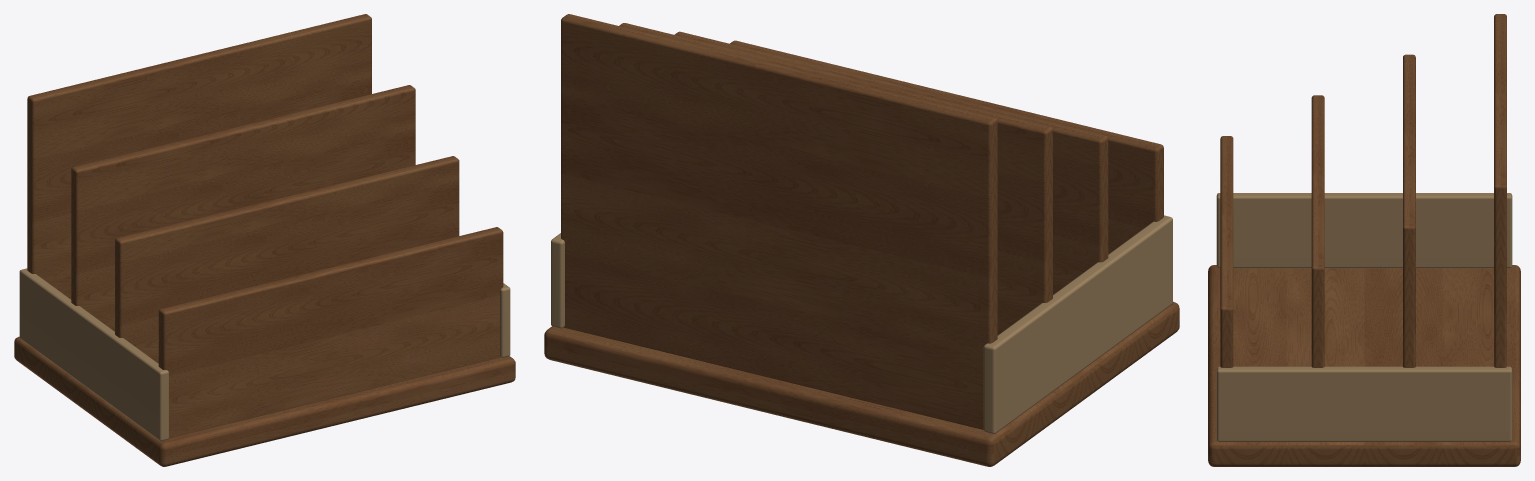
Rendered from investigation-desktop-file-sorter.glb.
3 views of the same model, side by side, from view 1: azimuth 30°, elevation 25°; view 2: azimuth 150°, elevation 25°; view 3: azimuth 270°, elevation 25° (orthographic). The views are drawn at different scales.
Parts seen in each view (by area): view 1: Ascending file divider, Ascending file divider.003, Ascending file divider.002, Ascending file divider.001, Walnut file-sorter base, File sorter low end rail, File sorter low end rail.001; view 2: Ascending file divider.003, Walnut file-sorter base, File sorter low end rail, Ascending file divider.002, Ascending file divider.001, Ascending file divider, File sorter low end rail.001; view 3: Walnut file-sorter base, File sorter low end rail.001, File sorter low end rail, Ascending file divider.003, Ascending file divider.002, Ascending file divider.001, Ascending file divider.
Part boxes in pixels (x1,y1,x2,y2): Ascending file divider: (158, 227, 503, 438); Ascending file divider.003: (27, 14, 371, 299); Ascending file divider.002: (71, 85, 415, 331); Ascending file divider.001: (115, 156, 459, 363); Walnut file-sorter base: (14, 336, 515, 466); File sorter low end rail: (19, 268, 168, 440); File sorter low end rail.001: (500, 283, 510, 357); Ascending file divider.003: (561, 14, 997, 429); Walnut file-sorter base: (544, 301, 1179, 466); File sorter low end rail: (983, 215, 1172, 434); Ascending file divider.002: (619, 23, 1052, 335); Ascending file divider.001: (674, 31, 1108, 294); Ascending file divider: (730, 40, 1163, 254); File sorter low end rail.001: (551, 233, 564, 328); Walnut file-sorter base: (1208, 265, 1520, 466); File sorter low end rail.001: (1216, 366, 1512, 441); File sorter low end rail: (1216, 193, 1512, 268); Ascending file divider.003: (1494, 14, 1506, 367); Ascending file divider.002: (1403, 54, 1415, 367); Ascending file divider.001: (1311, 95, 1324, 367); Ascending file divider: (1220, 136, 1233, 367).
Bounding box in the file's own units: 0.296 × 0.2125 × 0.216.
Materials: 3 (3 with a texture image).
